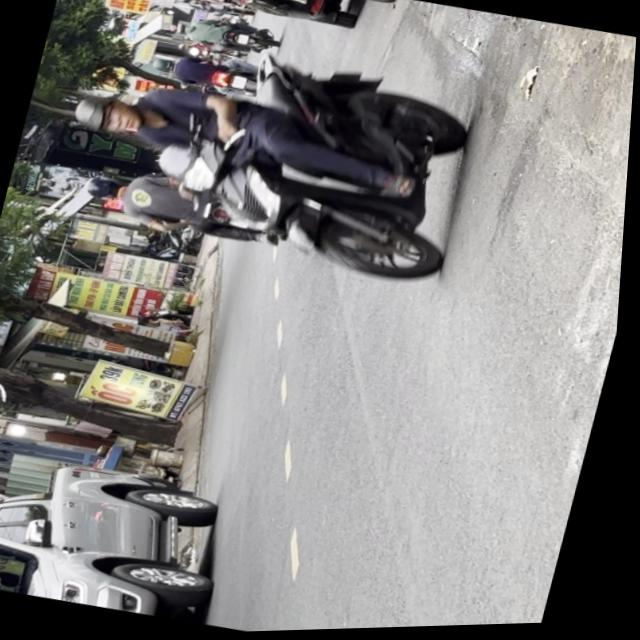helmet: (68, 90, 149, 143), (81, 175, 125, 206)
licenseplate: (40, 12, 499, 307)
